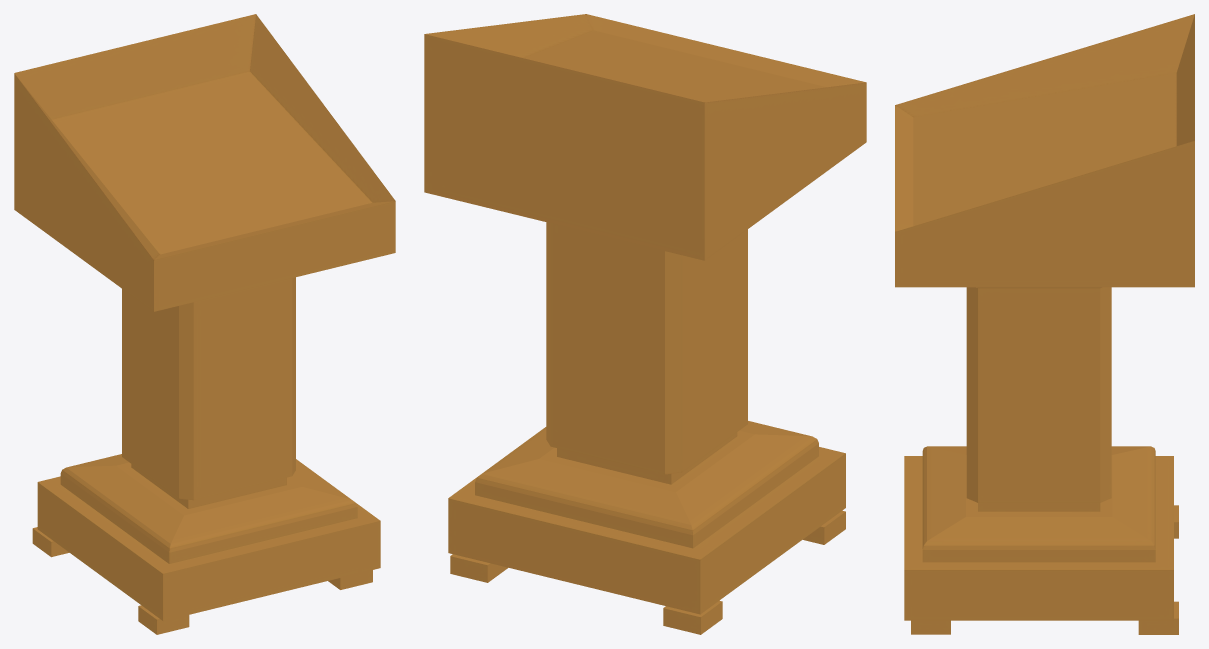
The model's file is Podium.glb.
3 views of the same model, side by side, from view 1: azimuth 30°, elevation 25°; view 2: azimuth 150°, elevation 25°; view 3: azimuth 270°, elevation 25° (orthographic). The views are drawn at different scales.
Visible parts, largest first — view 1: Podium_Baked; view 2: Podium_Baked; view 3: Podium_Baked.
Boxes of the visible parts, box(x1,y1,x2,y2) form: Podium_Baked: box(14, 14, 395, 634); Podium_Baked: box(424, 14, 866, 634); Podium_Baked: box(895, 14, 1194, 634).
Size of the model in its own units: 2.22 by 4.11 by 2.22.
1 material, 1 textured.
